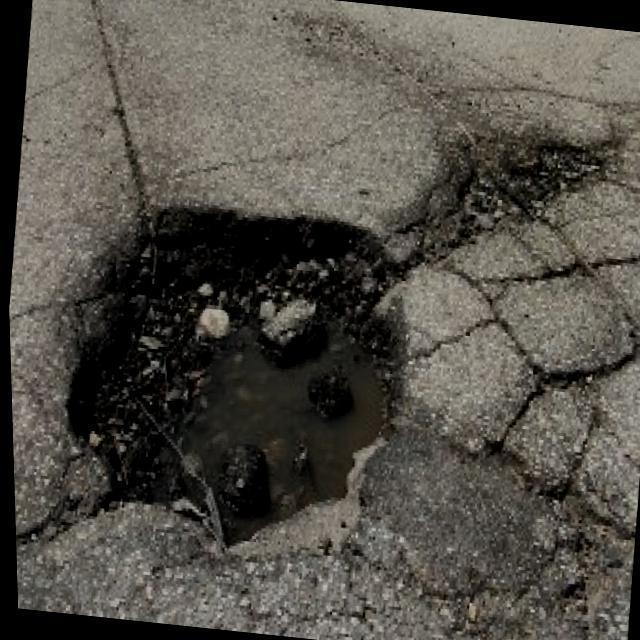Pothole: (61, 219, 397, 551), (421, 124, 621, 258)
